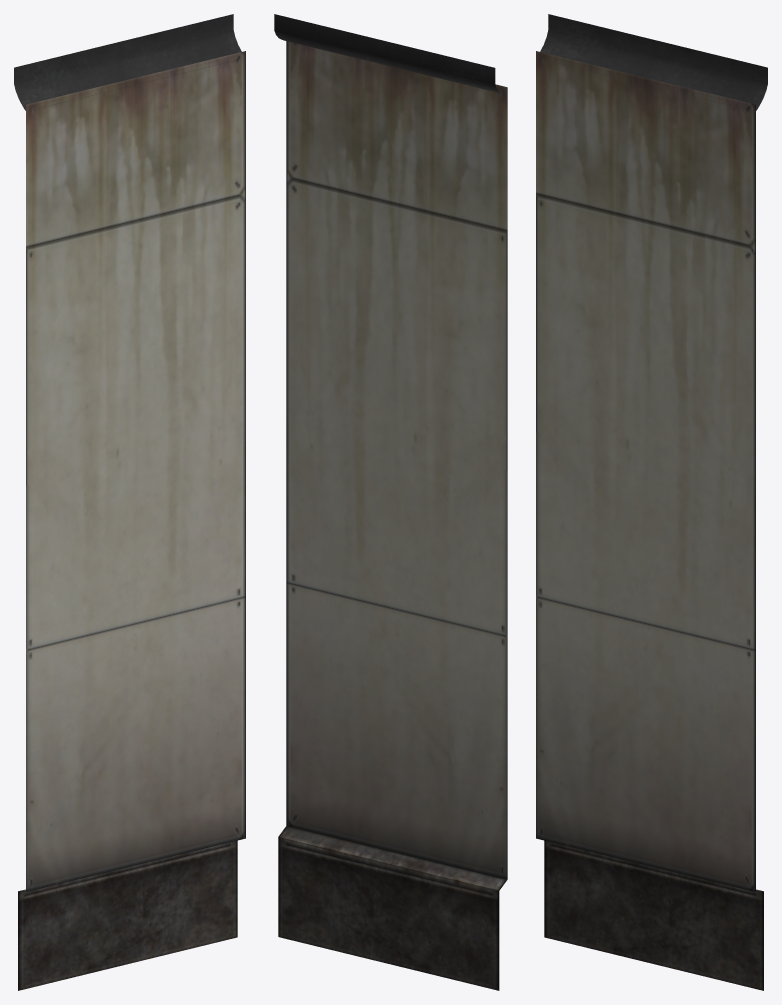
File: lab_flat_skinny.dae
3 renders of one model, left to right at view 1: azimuth 30°, elevation 25°; view 2: azimuth 150°, elevation 25°; view 3: azimuth 330°, elevation 25°, orthographic.
Visible parts, largest first — view 1: lab_flat_skinny; view 2: lab_flat_skinny; view 3: lab_flat_skinny.
Boxes of the visible parts, x1,y1,x2,y2 form: lab_flat_skinny: (14, 14, 245, 990); lab_flat_skinny: (274, 14, 507, 990); lab_flat_skinny: (536, 14, 767, 990).
Size of the model in its own units: 1 by 4 by 0.0961.
